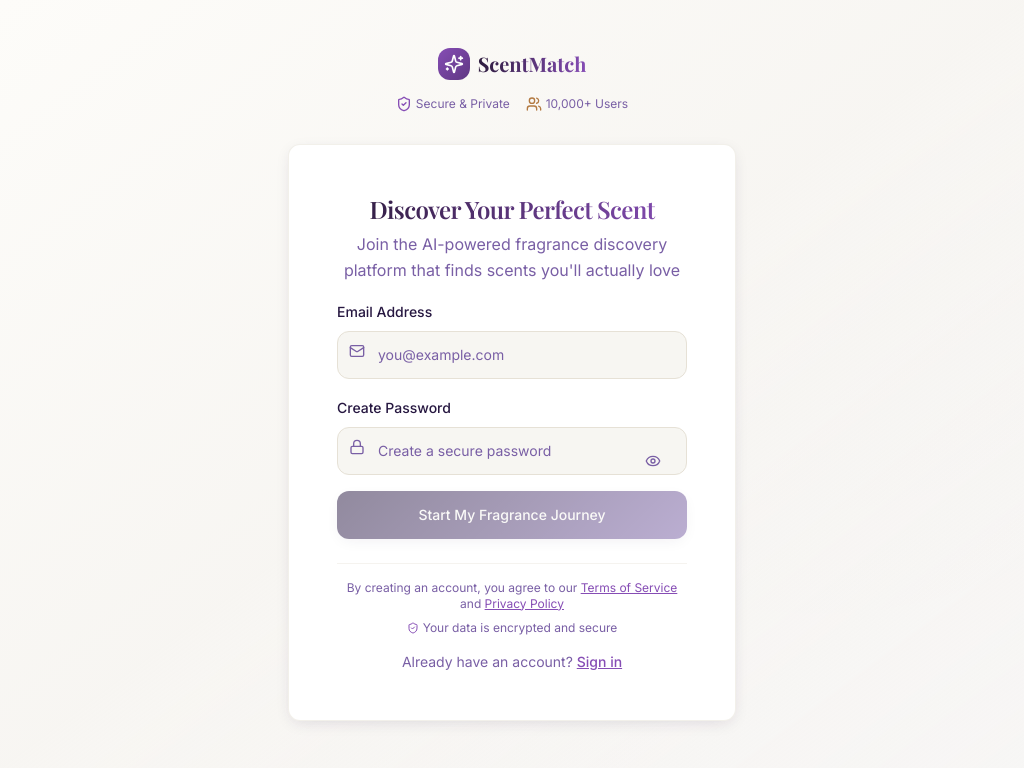
Scenario: Authentication Mobile Performance › 1. Core Web Vitals Testing › 1.2 Interaction to Next Paint (INP) › password validation provides immediate feedback
Type "weak" into the password field labelled "Create Password" at [512, 450], box x1=337 y1=426 x2=687 y2=474
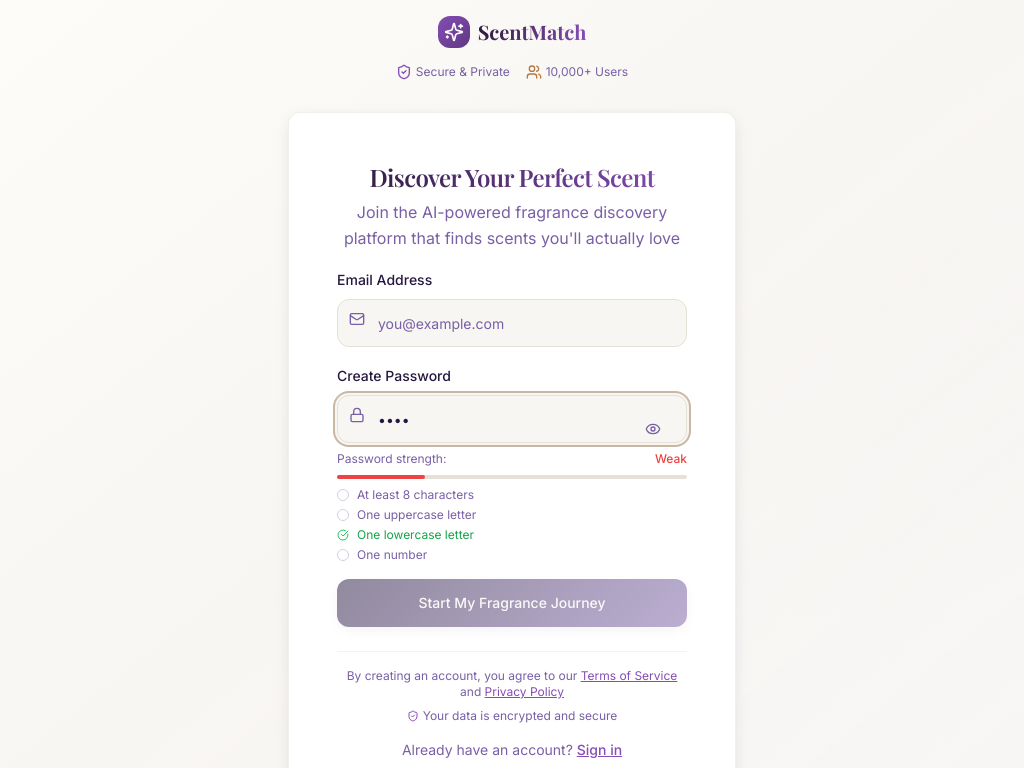
Result: the text "Password strength:" is shown at x1=337 y1=451 x2=446 y2=467
